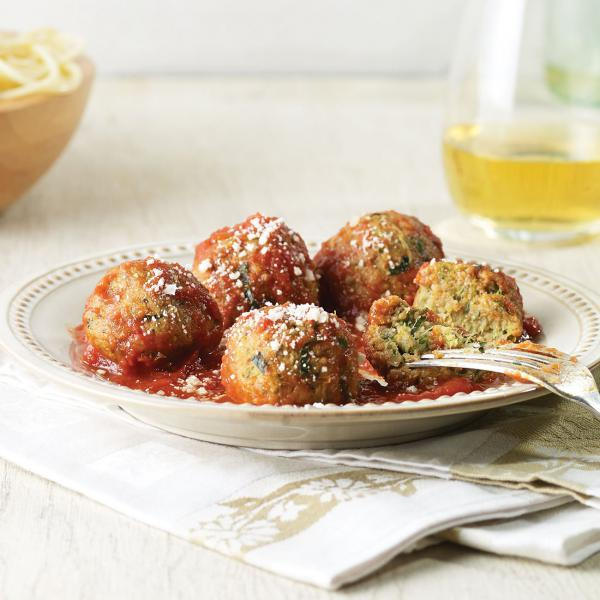meatballs: (306, 227, 474, 337), (213, 290, 357, 386), (72, 255, 207, 354), (222, 216, 336, 302)
plain spaghetti: (7, 43, 65, 98)
